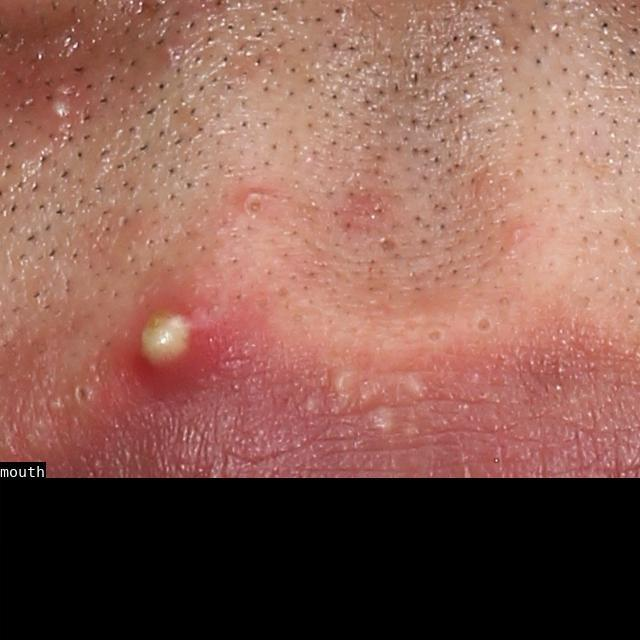comedo: (467, 310, 501, 340), (423, 325, 452, 350), (73, 379, 98, 406), (507, 224, 527, 245)
pustule: (110, 265, 227, 399), (42, 72, 79, 125)
